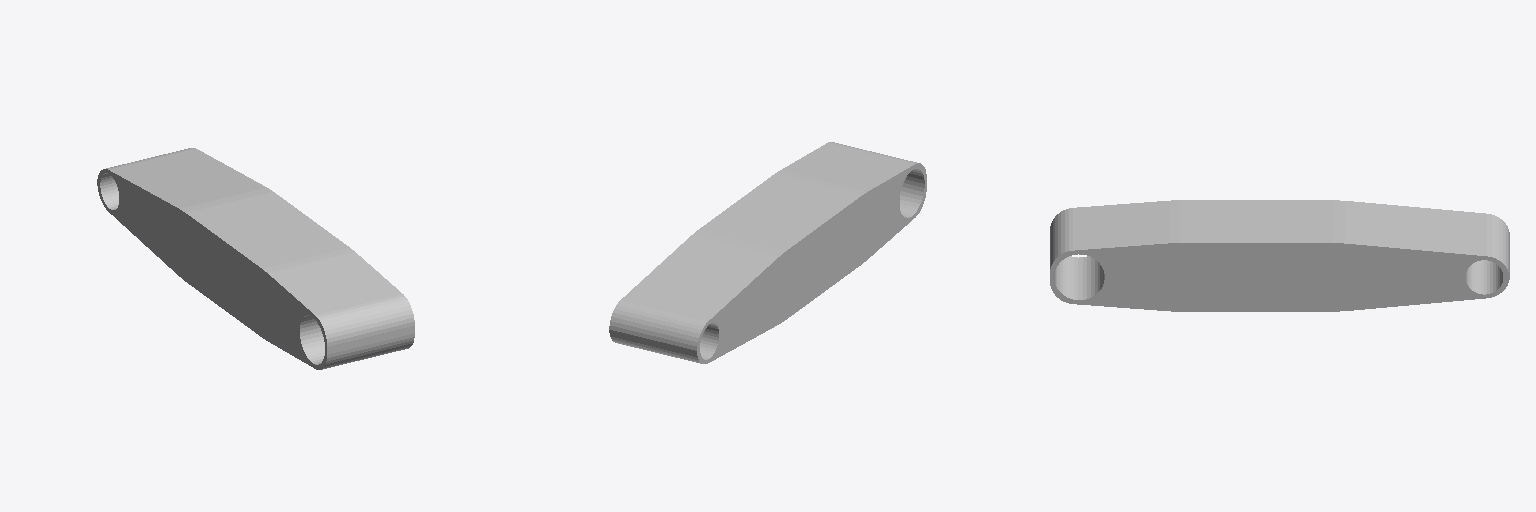
File: viper_L_up_sus.obj
The picture shows the model from 3 angles: view 1: azimuth 30°, elevation 25°; view 2: azimuth 150°, elevation 25°; view 3: azimuth 270°, elevation 25°; orthographic projection.
Visible parts, largest first — view 1: viper_L_up_sus; view 2: viper_L_up_sus; view 3: viper_L_up_sus.
Part boxes in pixels (left/top/right/bottom): viper_L_up_sus: left=97, top=148, right=414, bottom=369; viper_L_up_sus: left=609, top=142, right=926, bottom=363; viper_L_up_sus: left=1050, top=200, right=1509, bottom=311.
Size of the model in its own units: 0.08 by 0.06 by 0.3633.